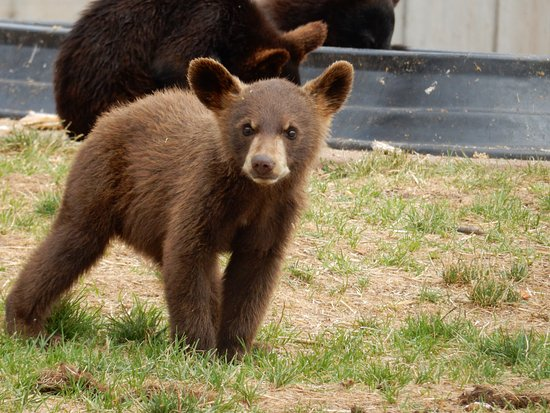bear: (183, 52, 361, 190)
